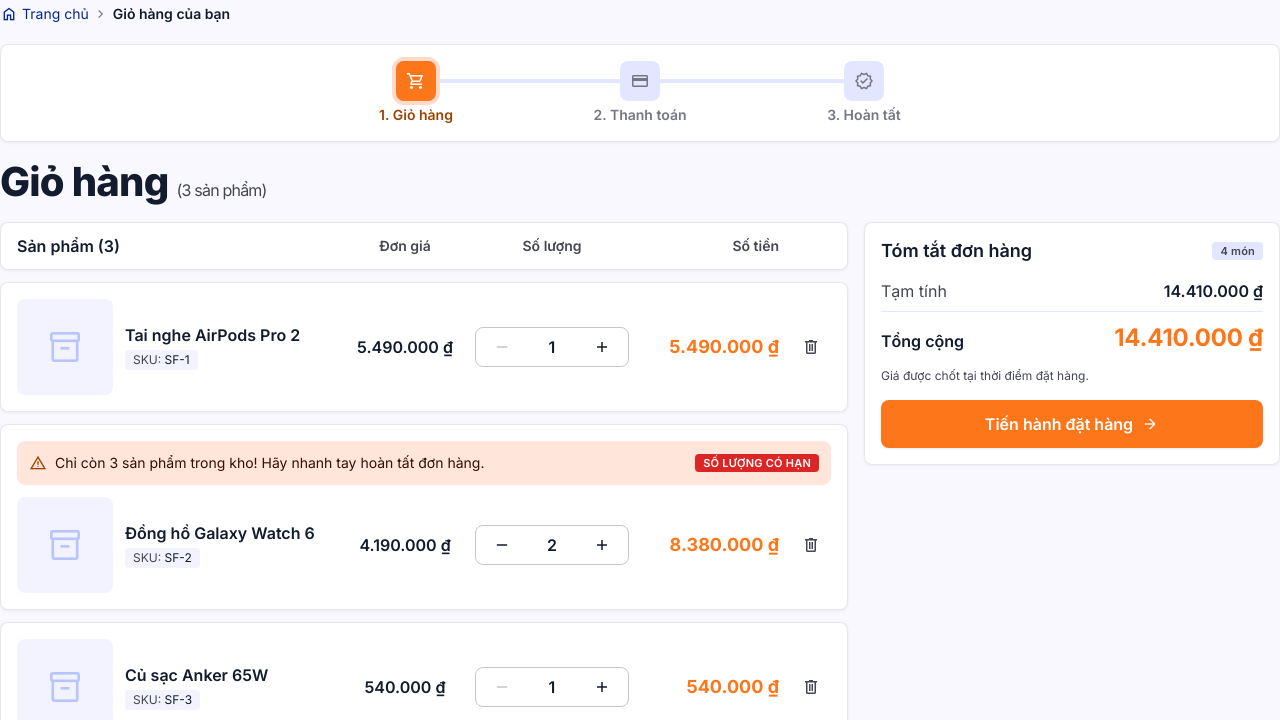
Test: CartPage › xoá một dòng → DELETE, dòng biến mất; "Xoá tất cả" qua Modal → DELETE /cart
Expected: the link "Củ sạc Anker 65W" is shown, [125,665,268,685]
Click the button named "Xoá Củ sạc Anker 65W khỏi giỏ" at (811, 687), box [791,667,831,707]
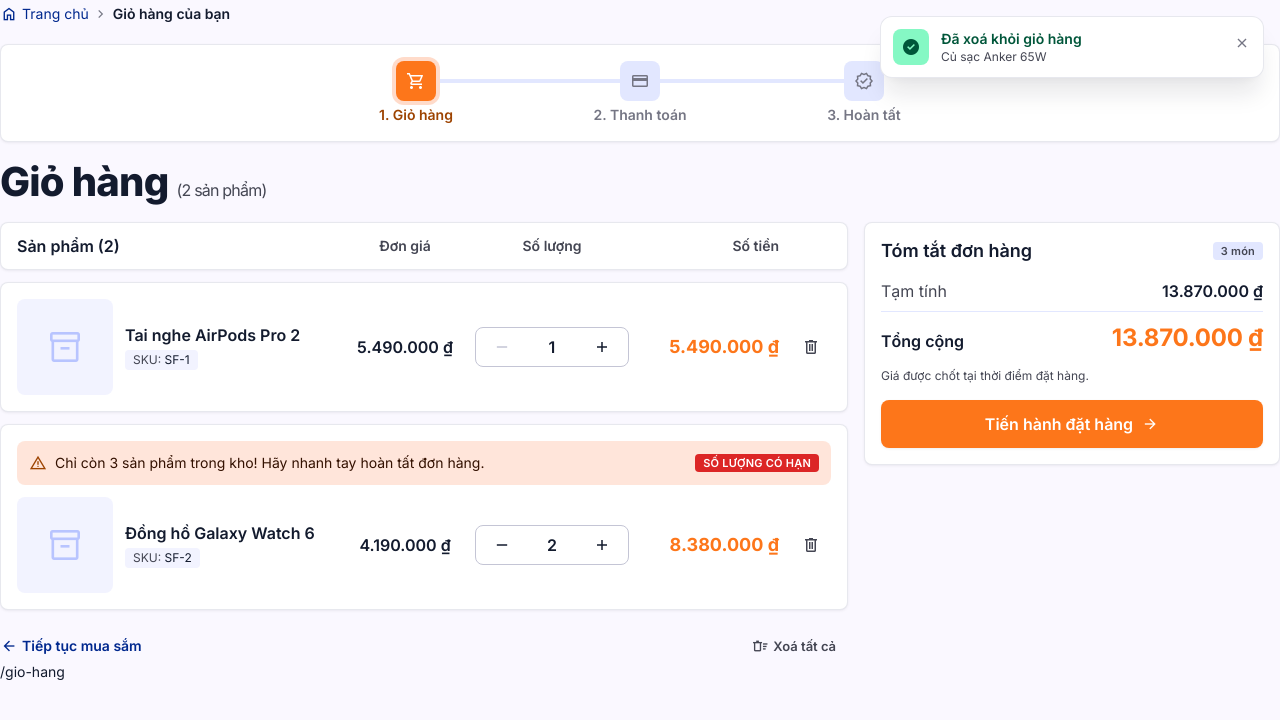
Expected: the text "Đã xoá khỏi giỏ hàng" is shown, [941,30,1082,47]
Click the button "Xoá tất cả" at (794, 646), box [739,630,848,662]
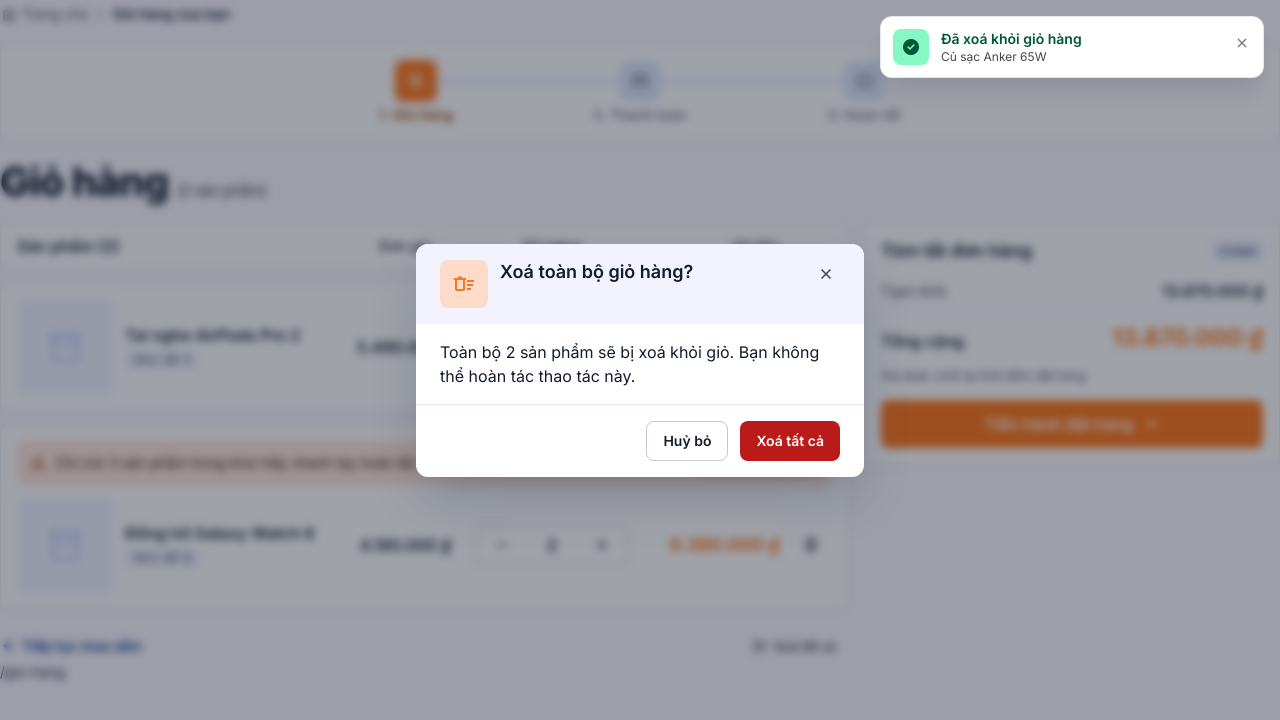
Click the button "Xoá tất cả" at (790, 440), box [740,420,840,460]
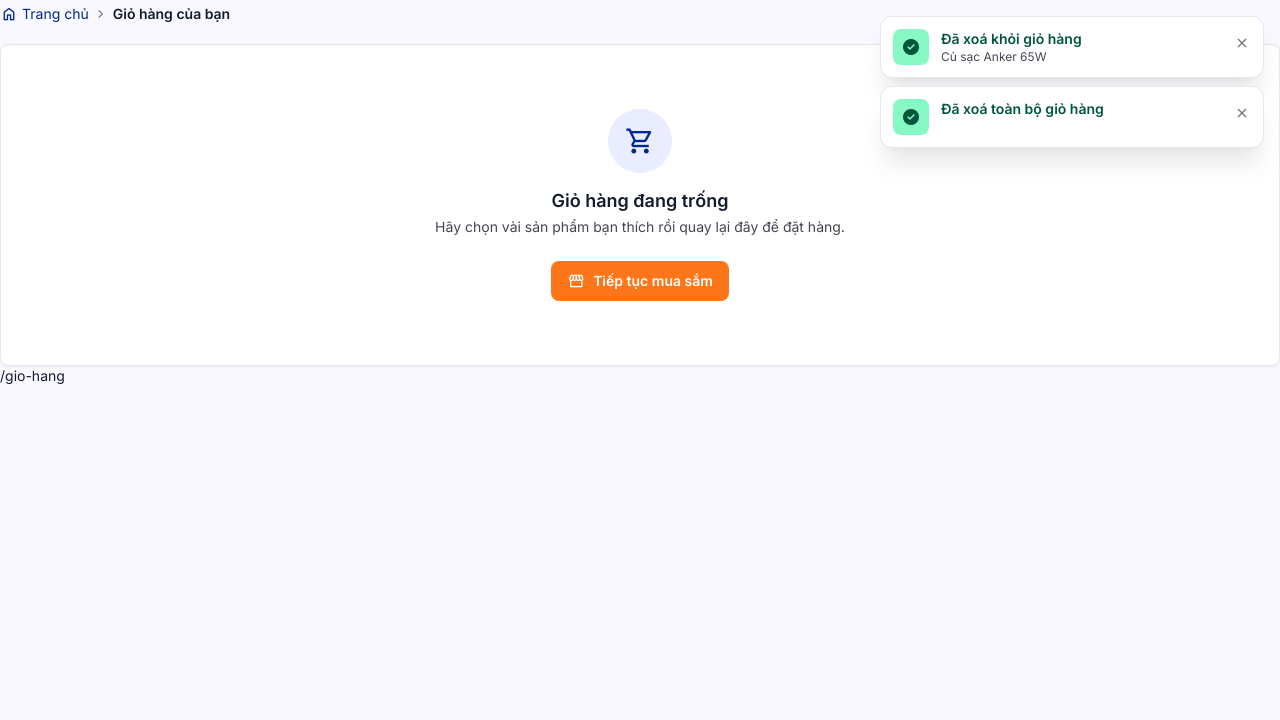
Expected: the heading "Giỏ hàng đang trống" is shown, [552,189,728,213]
